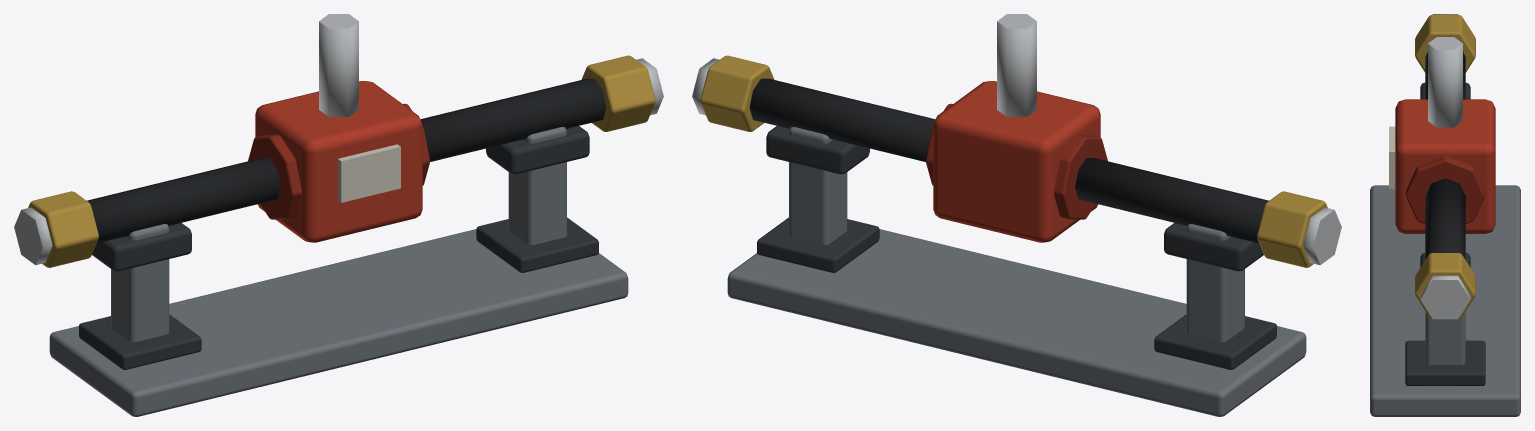
Rendered from pp_valve.glb.
3 renders of one model, left to right at view 1: azimuth 30°, elevation 25°; view 2: azimuth 150°, elevation 25°; view 3: azimuth 270°, elevation 25°, orthographic. The views are drawn at different scales.
Visible parts, largest first — view 1: block.001, block.008, cyl.001, cyl.002, block.002, block.005, cyl, cyl.005, block.004, block.007, cyl.003, block (+4 smaller); view 2: block.001, block.008, cyl.001, cyl.002, block.002, block.005, cyl, cyl.005, block.004, block.007, cyl.003, block.006 (+3 smaller); view 3: block.001, block.008, cyl, cyl.002, block.007, cyl.008, block.005, cyl.003, cyl.006, cyl.005, block, cyl.001 (+1 smaller).
Boxes of the visible parts, left/top/right/bottom form: block.001: left=49, top=229, right=628, bottom=416; block.008: left=255, top=81, right=422, bottom=242; cyl.001: left=87, top=158, right=280, bottom=243; cyl.002: left=420, top=78, right=606, bottom=161; block.002: left=111, top=224, right=169, bottom=341; block.005: left=508, top=127, right=566, bottom=244; cyl: left=319, top=14, right=358, bottom=116; cyl.005: left=581, top=55, right=655, bottom=131; block.004: left=79, top=314, right=201, bottom=369; block.007: left=476, top=217, right=598, bottom=272; cyl.003: left=28, top=191, right=98, bottom=267; block: left=338, top=144, right=400, bottom=202; block.001: left=727, top=229, right=1306, bottom=416; block.008: left=933, top=81, right=1100, bottom=242; cyl.001: left=1075, top=158, right=1268, bottom=243; cyl.002: left=749, top=78, right=935, bottom=161; block.002: left=1186, top=224, right=1244, bottom=341; block.005: left=789, top=127, right=847, bottom=244; cyl: left=997, top=14, right=1036, bottom=116; cyl.005: left=700, top=55, right=774, bottom=131; block.004: left=1154, top=314, right=1276, bottom=369; block.007: left=757, top=217, right=879, bottom=272; cyl.003: left=1257, top=191, right=1327, bottom=267; block.006: left=766, top=126, right=869, bottom=174; block.001: left=1370, top=185, right=1520, bottom=416; block.008: left=1395, top=99, right=1495, bottom=233; cyl: left=1428, top=37, right=1462, bottom=127; cyl.002: left=1425, top=178, right=1465, bottom=259; block.007: left=1405, top=340, right=1485, bottom=385; cyl.008: left=1405, top=156, right=1485, bottom=223; block.005: left=1425, top=312, right=1465, bottom=364; cyl.003: left=1415, top=14, right=1475, bottom=72; cyl.006: left=1420, top=275, right=1470, bottom=319; cyl.005: left=1415, top=253, right=1475, bottom=318; block: left=1389, top=126, right=1395, bottom=188; cyl.001: left=1425, top=52, right=1465, bottom=99.
Bounding box in the file's own units: 1.25 × 0.59 × 0.3.
